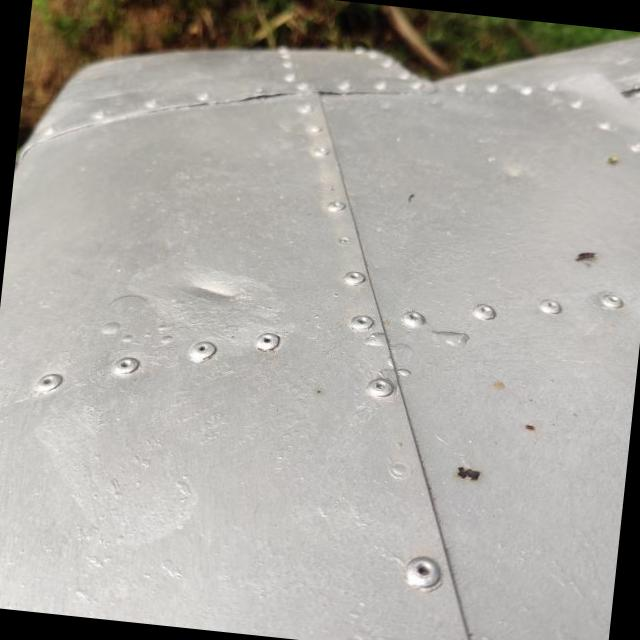Dent: (156, 243, 272, 347)
